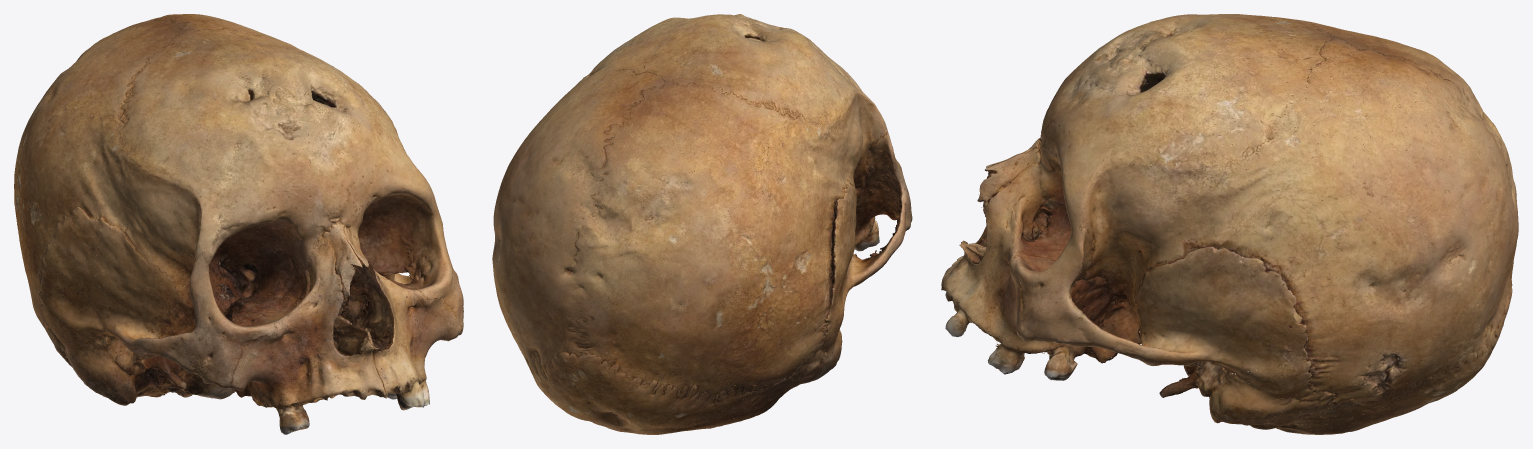
Rendered from syphilis-skull.glb.
The picture shows the model from 3 angles, left to right: view 1: azimuth 30°, elevation 25°; view 2: azimuth 150°, elevation 25°; view 3: azimuth 270°, elevation 25°; orthographic projection. The views are drawn at different scales.
Parts seen in each view (by area): view 1: Object_6, Object_3, Object_11, Object_7, Object_8, Object_4, Object_9, Object_12, Object_2; view 2: Object_6, Object_2, Object_8, Object_7, Object_9, Object_3, Object_11, Object_12, Object_4; view 3: Object_2, Object_3, Object_6, Object_4, Object_5, Object_8, Object_12, Object_7, Object_9, Object_11.
Part boxes in pixels (x1,y1,x2,y2): Object_6: (14, 14, 411, 366); Object_3: (199, 39, 463, 407); Object_11: (76, 221, 434, 432); Object_7: (27, 51, 444, 434); Object_8: (14, 14, 443, 430); Object_4: (146, 54, 463, 407); Object_9: (69, 225, 441, 410); Object_12: (143, 222, 449, 431); Object_2: (66, 38, 408, 310); Object_6: (550, 14, 874, 429); Object_2: (492, 14, 800, 434); Object_8: (553, 22, 899, 428); Object_7: (676, 16, 879, 245); Object_9: (702, 106, 897, 428); Object_3: (493, 15, 886, 433); Object_11: (734, 146, 912, 385); Object_12: (728, 88, 911, 284); Object_4: (581, 14, 896, 331); Object_2: (1040, 42, 1518, 434); Object_3: (1015, 31, 1467, 432); Object_6: (1103, 14, 1516, 383); Object_4: (941, 31, 1332, 424); Object_5: (1218, 96, 1391, 434); Object_8: (986, 14, 1458, 406); Object_12: (945, 138, 1193, 373); Object_7: (944, 14, 1379, 380); Object_9: (943, 126, 1385, 411); Object_11: (959, 138, 1249, 383).
Size of the model in its own units: 2.56 by 2.61 by 3.66.
4 materials, 4 textured.
